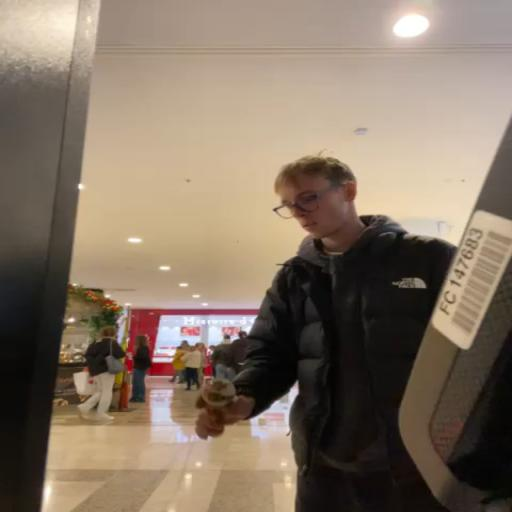kendama_ball: (200, 378, 235, 406)
